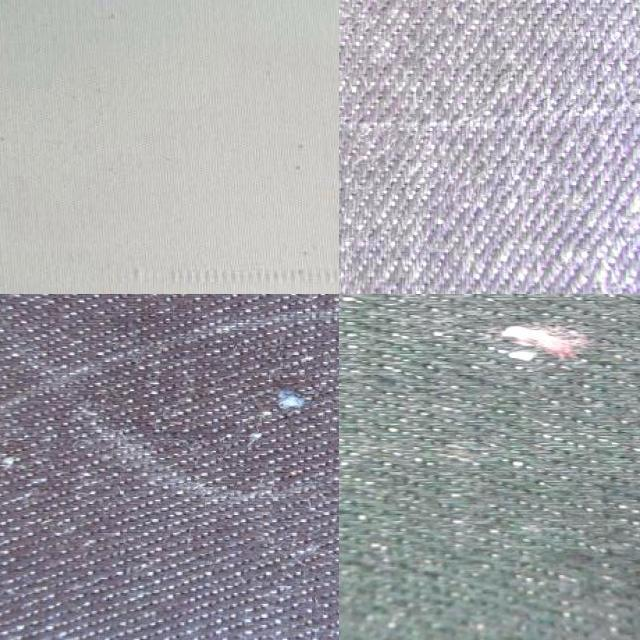stains: (59, 142, 339, 294), (420, 294, 640, 466), (224, 347, 339, 455)
